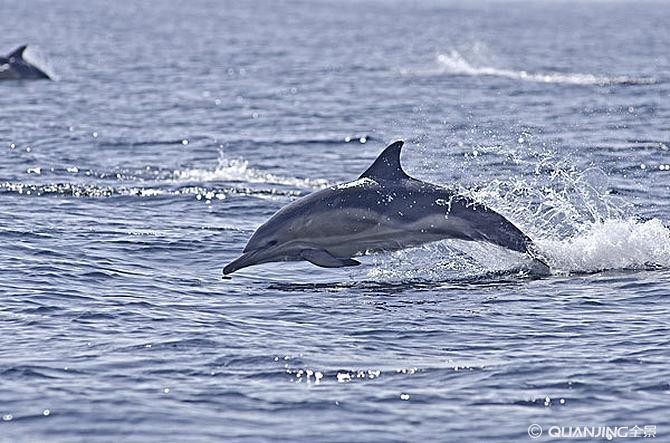fish: (219, 140, 550, 280)
